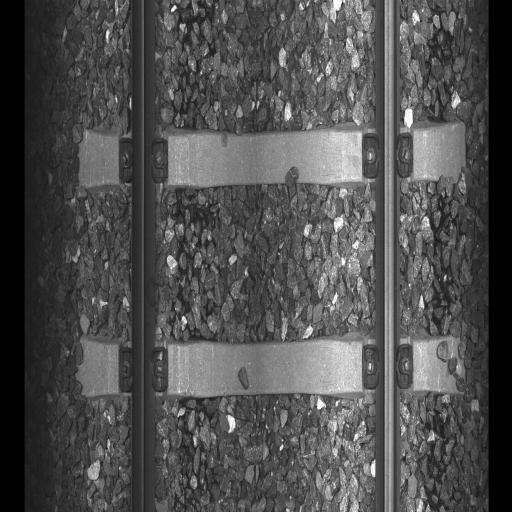sleeper: (74, 332, 466, 401), (73, 125, 469, 189)
